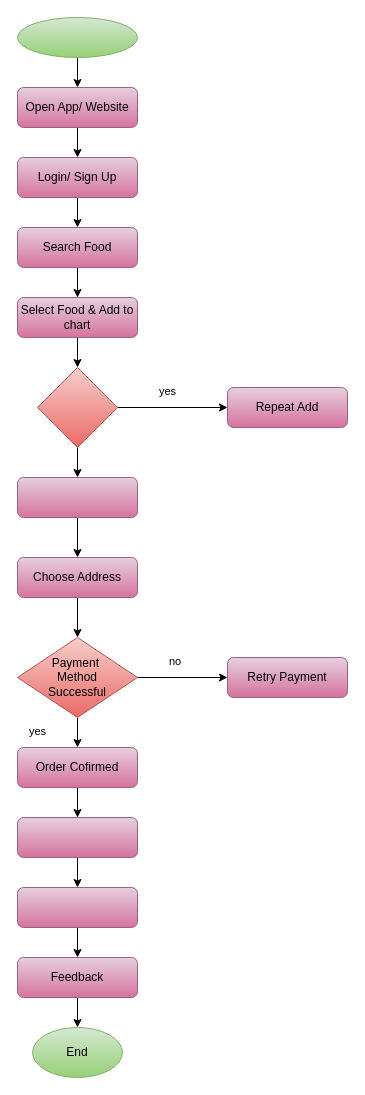
The diagram is 365 pixels wide and 1095 high, and some of its shapes have lost their labels. Here are the shapes that lost their labels. From the top down, the centre of each, then its label:
At point 77,37: "Start".
At point 77,407: "Add More Items".
At point 77,497: "Go to Cart".
At point 77,837: "Track Order".
At point 77,907: "Delivery Completed".
